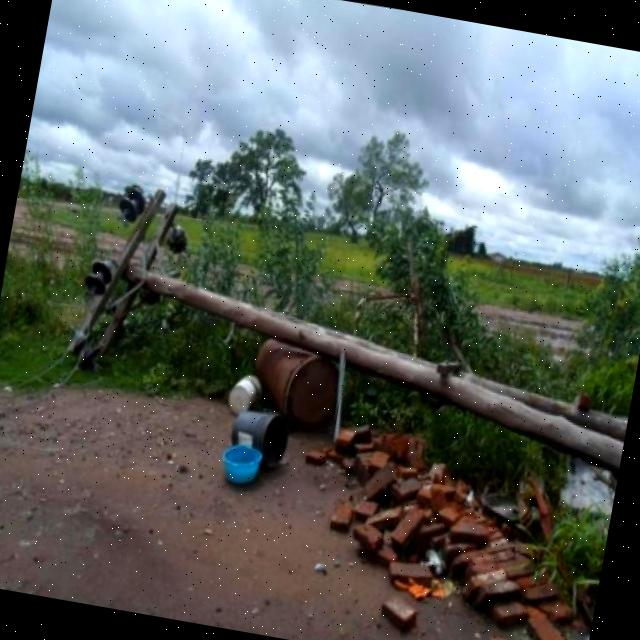Broken Pole: (63, 181, 624, 470)
